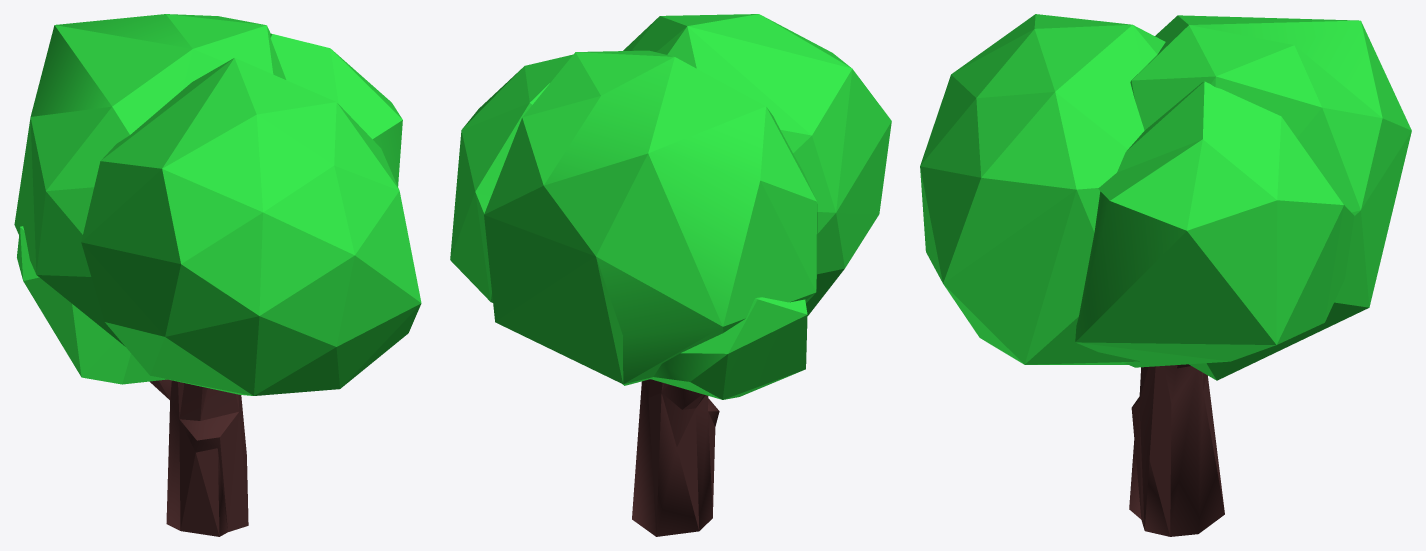
File: tree3.glb
3 views of the same model, side by side, from view 1: azimuth 30°, elevation 25°; view 2: azimuth 150°, elevation 25°; view 3: azimuth 270°, elevation 25° (orthographic). The views are drawn at different scales.
Visible parts, largest first — view 1: Icosphere; view 2: Icosphere; view 3: Icosphere.
Boxes of the visible parts, left/top/right/bottom form: Icosphere: left=14, top=14, right=421, bottom=536; Icosphere: left=450, top=14, right=891, bottom=536; Icosphere: left=920, top=14, right=1411, bottom=536.
Bounding box in the file's own units: 7.95 × 10.39 × 9.32.
